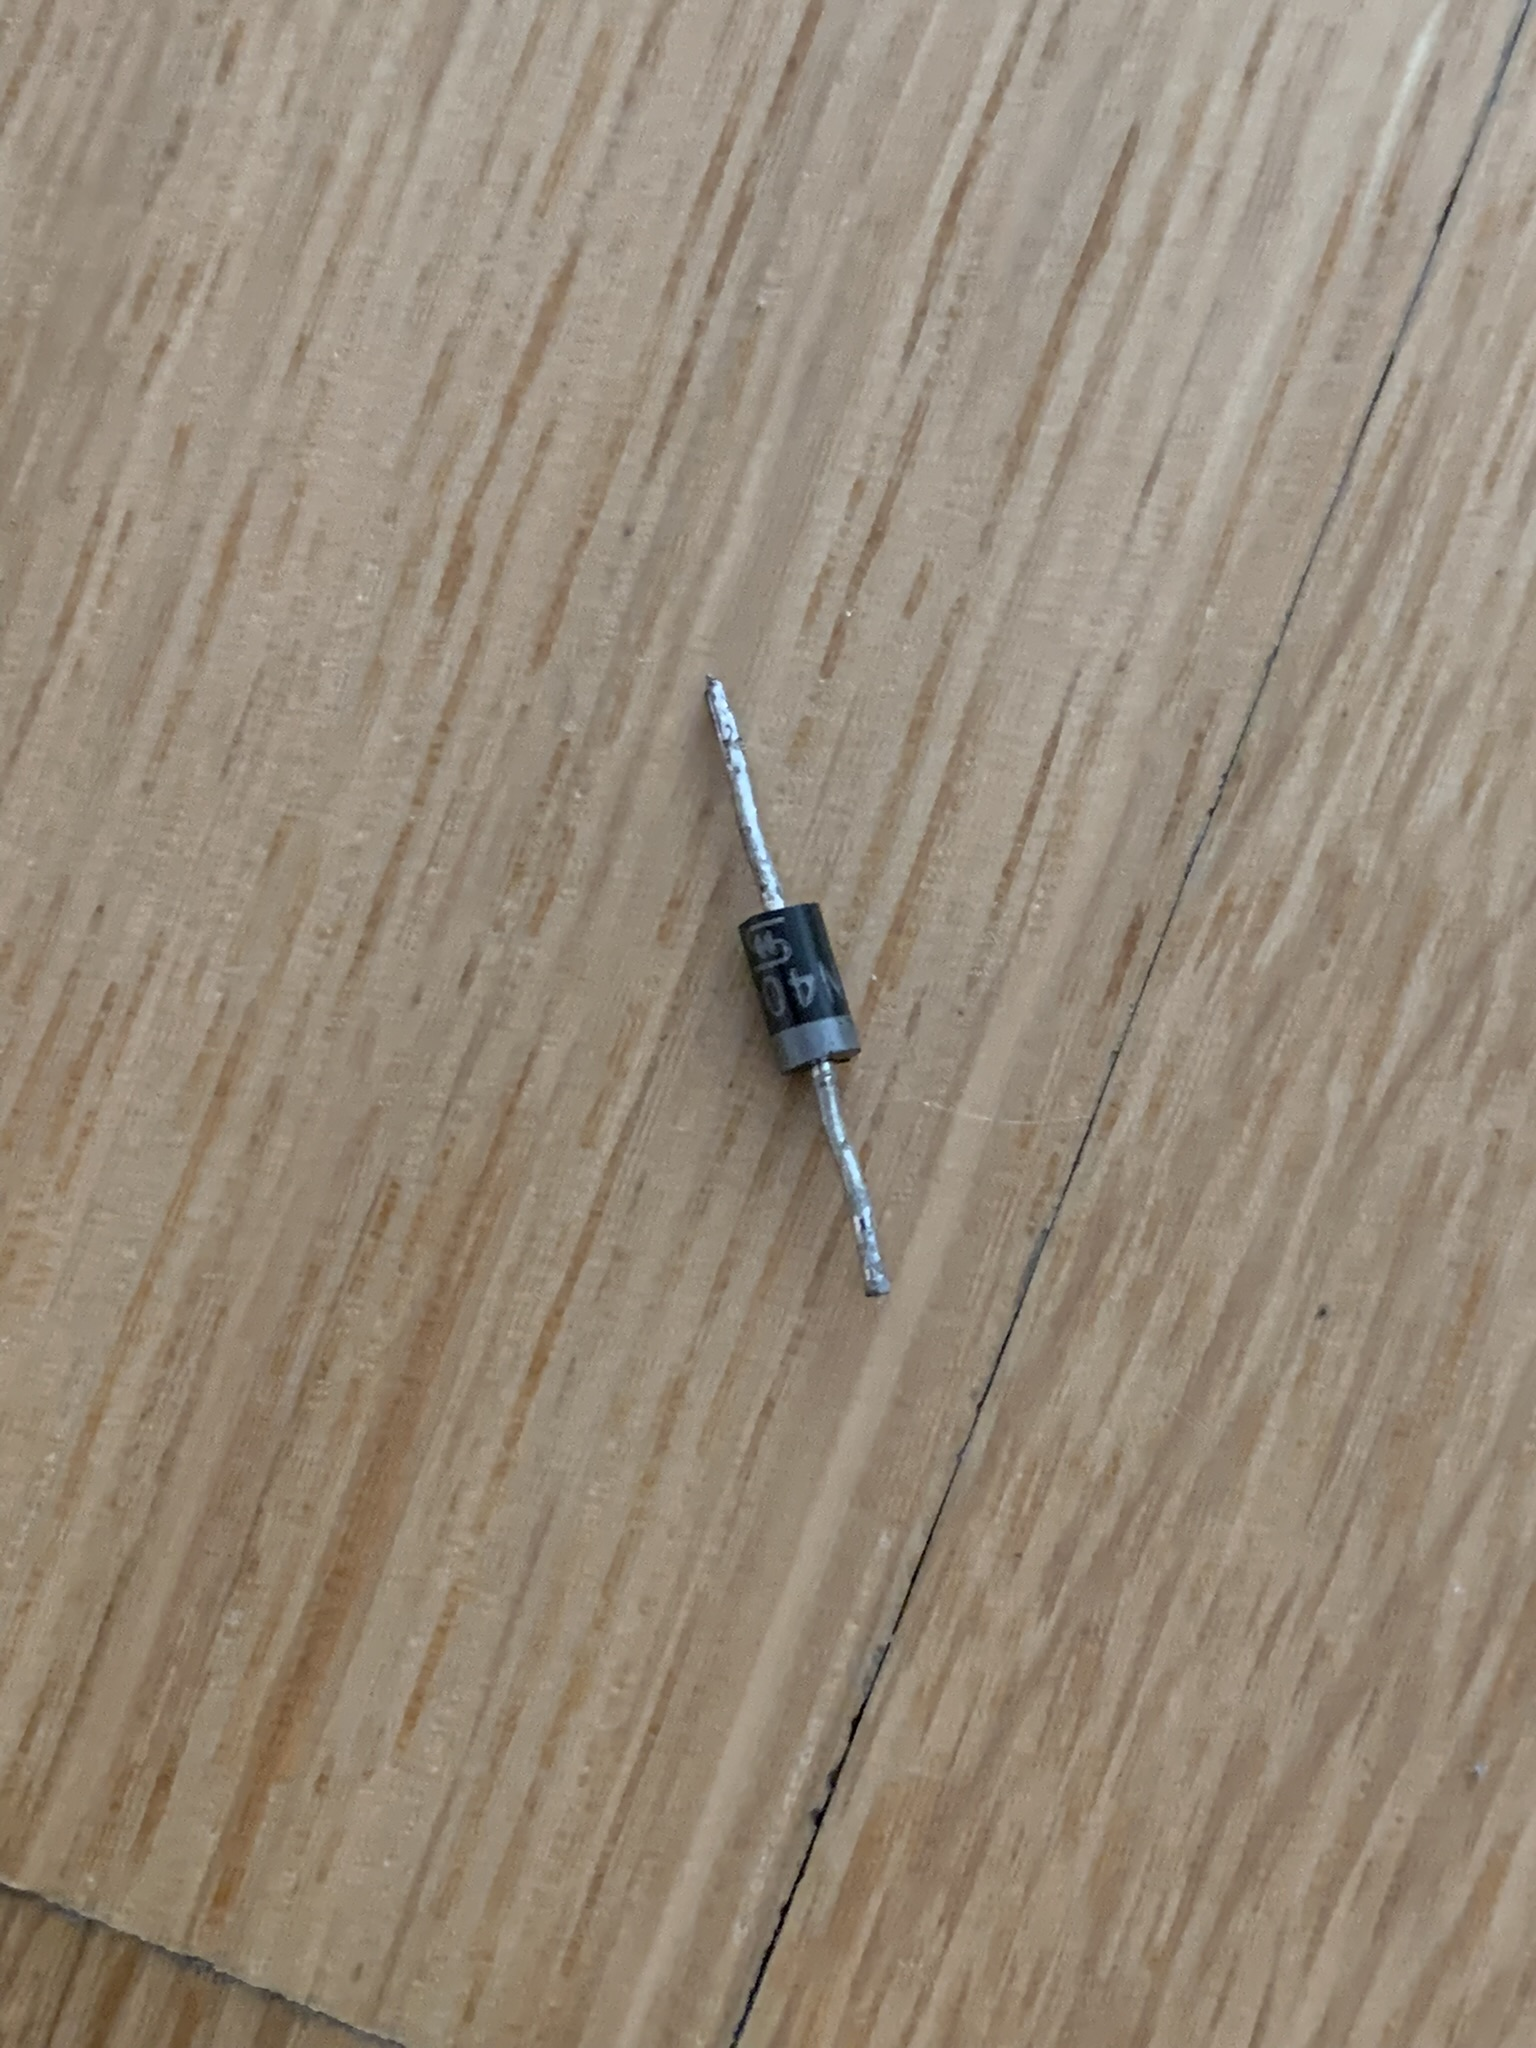diode_thd: (742, 898, 868, 1074)
